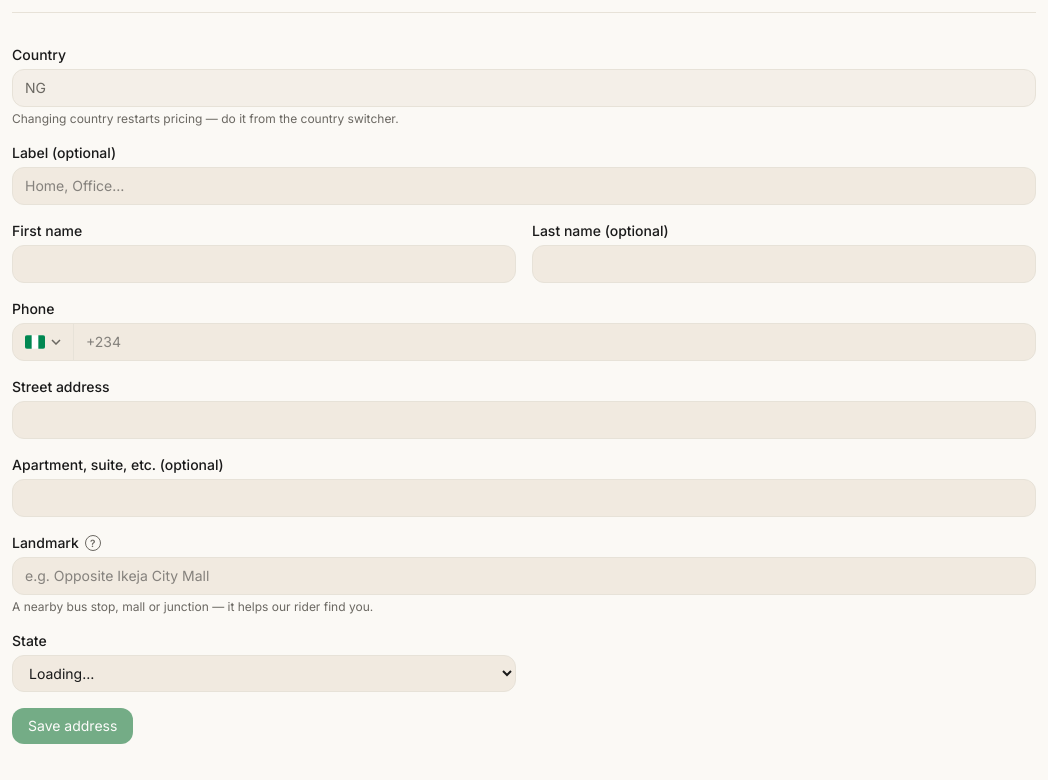
Test: AddressStep › asks an NG shopper for a landmark, and puts it in the POST
This screenshot has width=1048, height=780.
Expected: the dropdown labelled "Street address" is shown, [12,401,1036,439]
Type "Ada" into the field labelled "First name" at (264, 264), box [12,245,516,283]
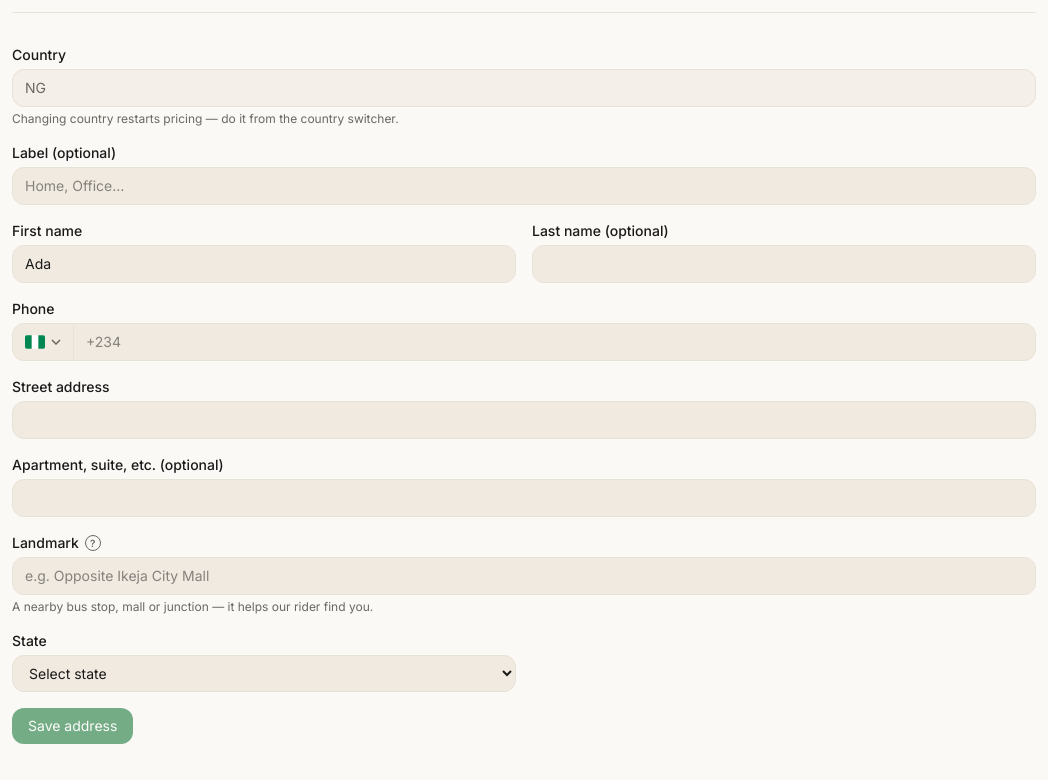
Type "08000000000" into the field labelled "Phone" at (554, 342), box [74,324,1035,360]
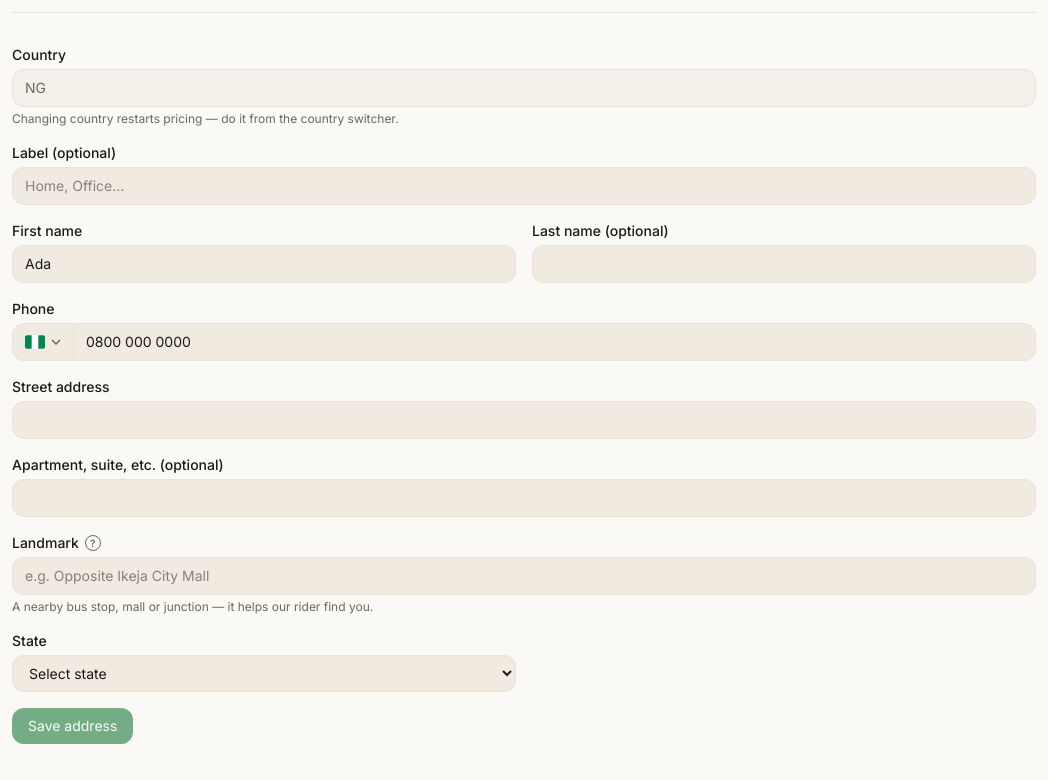
Type "12 Allen Avenue" into the dropdown labelled "Street address" at (524, 420), box [12,401,1036,439]
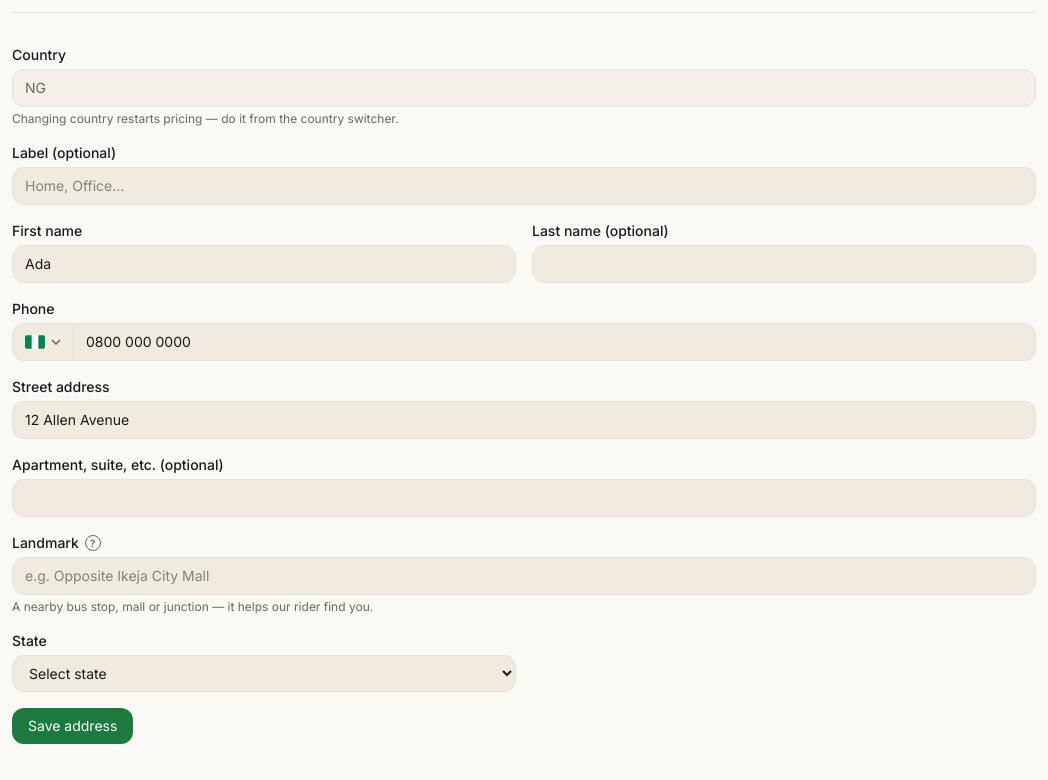
Type "Opposite Ikeja City Mall" into the field labelled "Landmark" at (524, 576), box [12,557,1036,595]
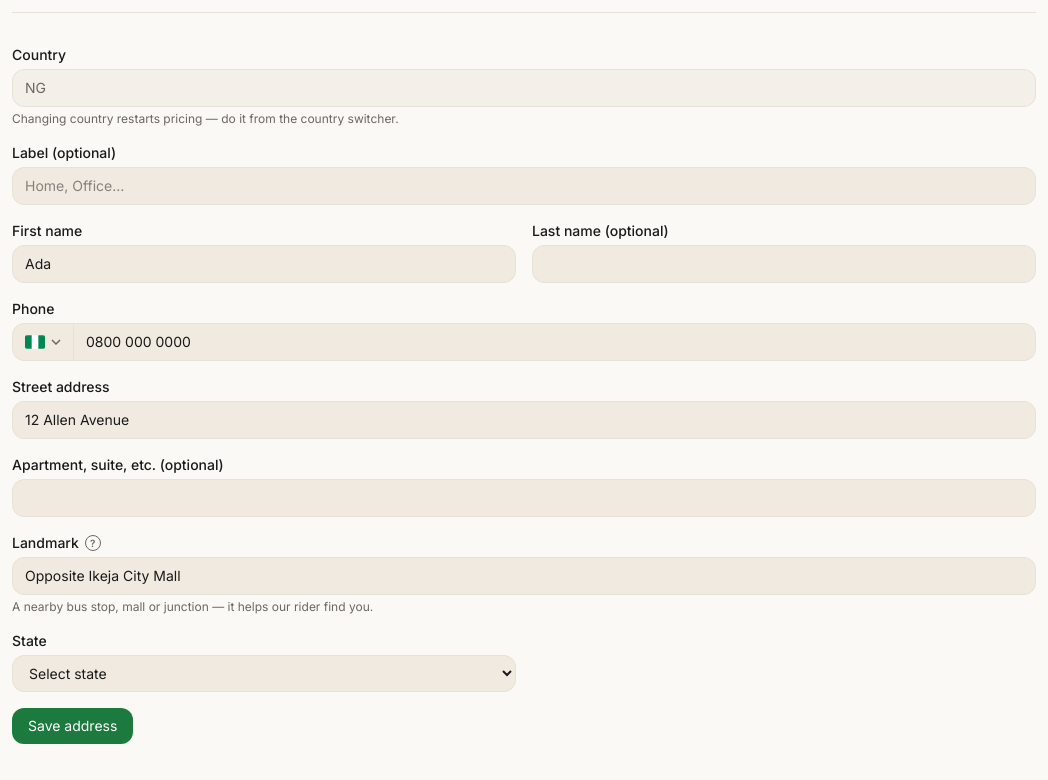
Select "Lagos" in the dropdown labelled "State" at (264, 674), box [12,655,516,692]
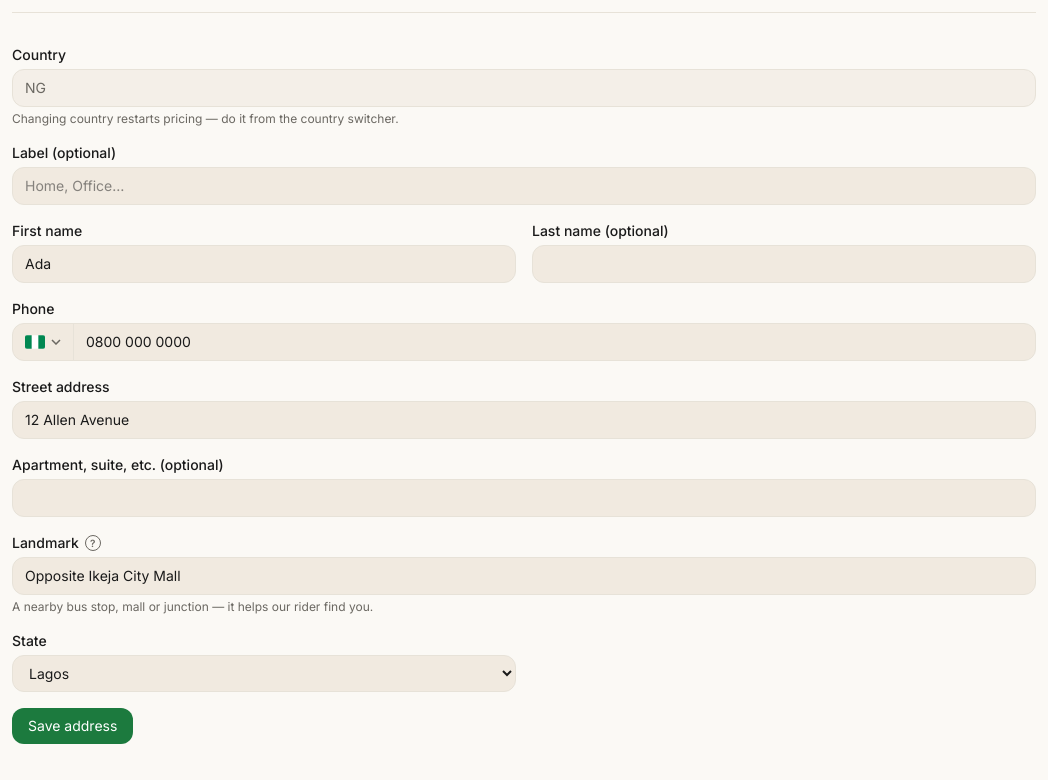
Click the button "Save address" at (73, 726), box [12,708,133,744]
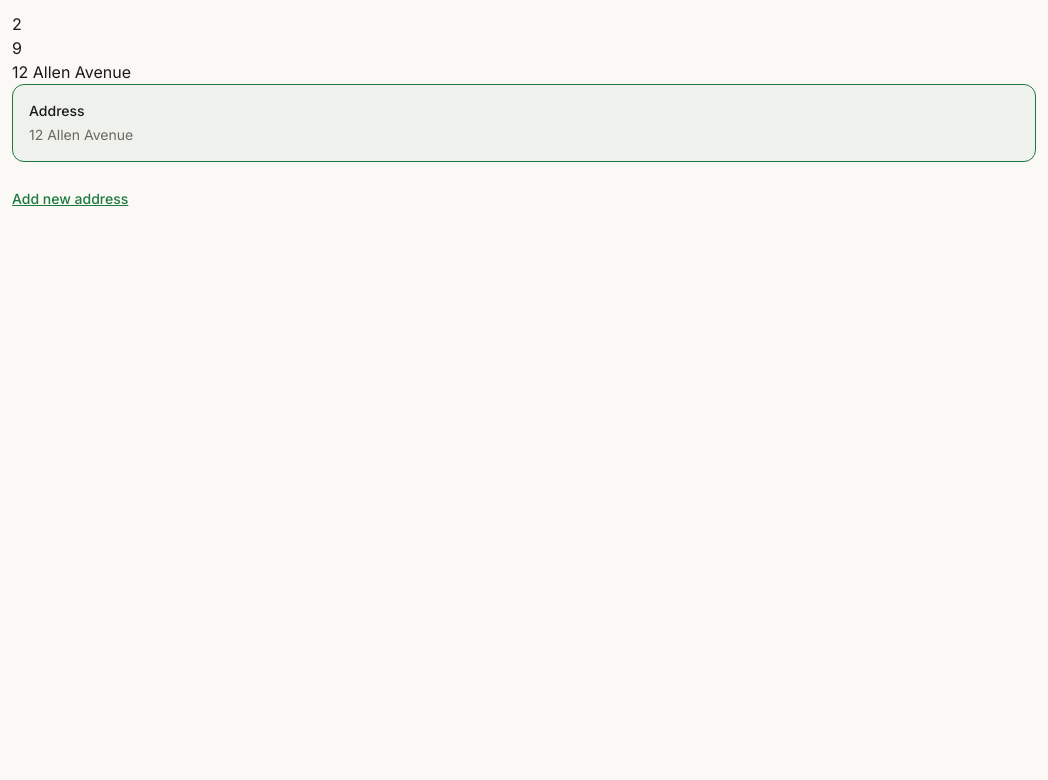
Expected: the text with test id "completed" reads "2", [12,14,22,34]
